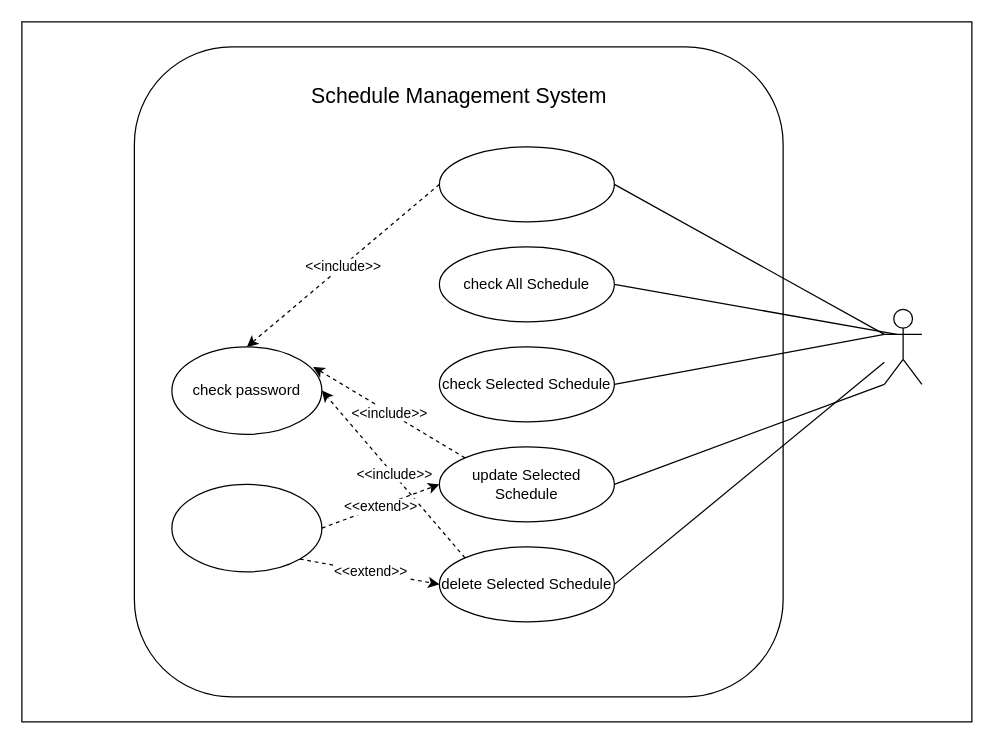
This 994x744 diagram has some shape labels left out. Here are the shapes that lost their labels. From the top down, the centre of each, then its label:
At point 526,184: "Add Schedule".
At point 902,346: "User".
At point 246,527: "wrong password Error".
